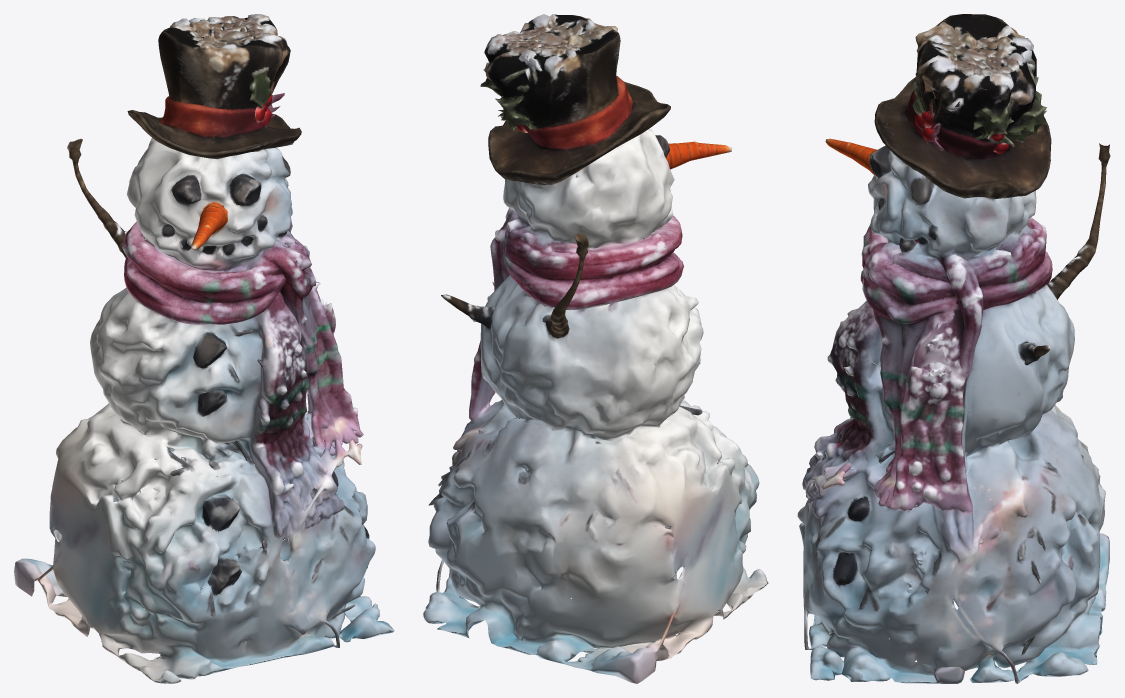
File: np-3d-snowman.glb
3 renders of one model, left to right at view 1: azimuth 30°, elevation 25°; view 2: azimuth 150°, elevation 25°; view 3: azimuth 270°, elevation 25°, orthographic. The views are drawn at different scales.
Bounding box in the file's own units: 0.4378 × 0.969 × 0.463.
Materials: 1 (1 with a texture image).
